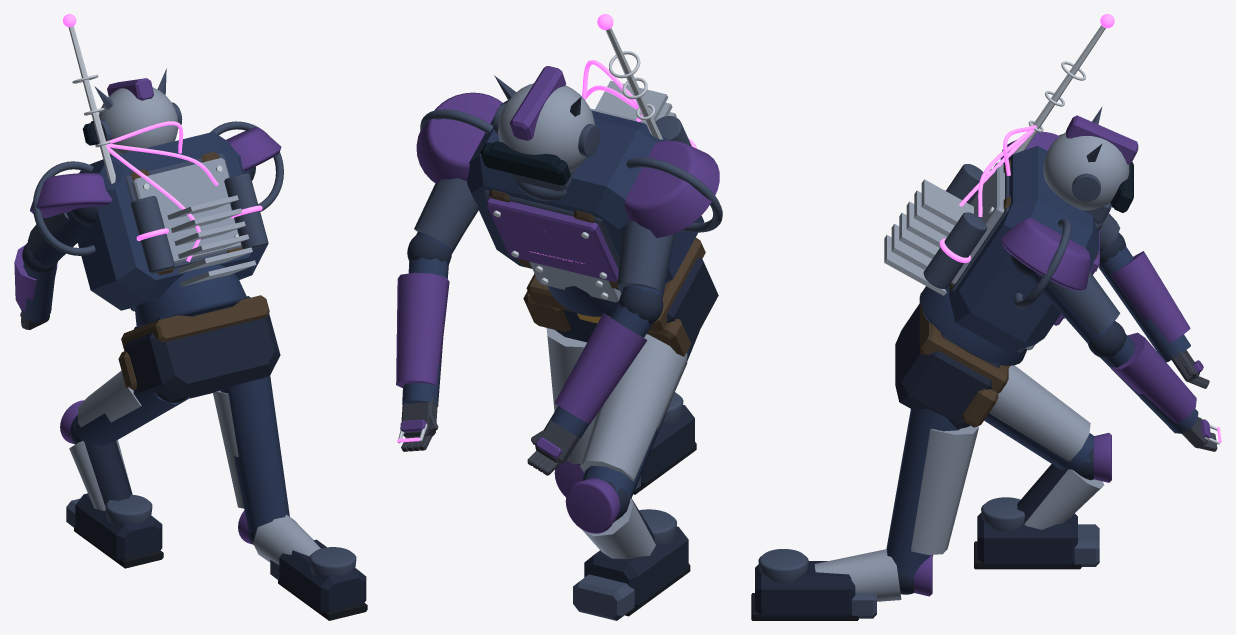
The model's file is hero_tempest_revive.glb.
The picture shows the model from 3 angles, left to right: view 1: azimuth 30°, elevation 25°; view 2: azimuth 150°, elevation 25°; view 3: azimuth 270°, elevation 25°; orthographic projection. The views are drawn at different scales.
Visible parts, largest first — view 1: hero_tempest_revive_chest, hero_tempest_revive_pelvis, hero_tempest_revive_thigh_r, hero_tempest_revive_back_plate_face, hero_tempest_revive_abdomen, hero_tempest_revive_helmet, hero_tempest_revive_spine_fins, hero_tempest_revive_boot_r, hero_tempest_revive_boot_l, hero_tempest_revive_belt, hero_tempest_revive_pauldron-1, hero_tempest_revive_thigh_l (+23 smaller); view 2: hero_tempest_revive_chest, hero_tempest_revive_thigh_plate_l, hero_tempest_revive_chest_plate_face, hero_tempest_revive_pauldron-1, hero_tempest_revive_bracer_r, hero_tempest_revive_bracer_l, hero_tempest_revive_pauldron1, hero_tempest_revive_helmet, hero_tempest_revive_boot_l, hero_tempest_revive_pelvis, hero_tempest_revive_bicep_plate_l, hero_tempest_revive_bicep_plate_r (+32 smaller); view 3: hero_tempest_revive_chest, hero_tempest_revive_pelvis, hero_tempest_revive_thigh_plate_r, hero_tempest_revive_thigh_plate_l, hero_tempest_revive_spine_fins, hero_tempest_revive_thigh_r, hero_tempest_revive_helmet, hero_tempest_revive_boot_r, hero_tempest_revive_boot_l, hero_tempest_revive_pauldron1, hero_tempest_revive_bracer_r, hero_tempest_revive_bracer_l (+25 smaller).
Part boxes in pixels (x1,y1,x2,y2): hero_tempest_revive_chest: (77,132,268,310); hero_tempest_revive_pelvis: (124,296,280,401); hero_tempest_revive_thigh_r: (221,375,289,535); hero_tempest_revive_back_plate_face: (131,158,241,263); hero_tempest_revive_abdomen: (134,264,246,327); hero_tempest_revive_helmet: (99,87,177,155); hero_tempest_revive_spine_fins: (167,195,256,286); hero_tempest_revive_boot_r: (279,539,366,613); hero_tempest_revive_boot_l: (75,493,162,561); hero_tempest_revive_belt: (121,295,269,351); hero_tempest_revive_pauldron-1: (30,173,112,217); hero_tempest_revive_thigh_l: (73,389,189,446); hero_tempest_revive_chest: (467,100,704,290); hero_tempest_revive_thigh_plate_l: (580,334,687,481); hero_tempest_revive_chest_plate_face: (485,197,618,281); hero_tempest_revive_pauldron-1: (624,140,719,237); hero_tempest_revive_bracer_r: (396,272,449,387); hero_tempest_revive_bracer_l: (554,313,647,424); hero_tempest_revive_pauldron1: (416,92,502,183); hero_tempest_revive_helmet: (498,83,594,171); hero_tempest_revive_boot_l: (584,526,688,607); hero_tempest_revive_pelvis: (555,257,718,350); hero_tempest_revive_bicep_plate_l: (617,221,674,292); hero_tempest_revive_bicep_plate_r: (414,178,478,250); hero_tempest_revive_chest: (949,146,1098,352); hero_tempest_revive_pelvis: (895,304,999,428); hero_tempest_revive_thigh_plate_r: (911,425,978,554); hero_tempest_revive_thigh_plate_l: (989,365,1090,461); hero_tempest_revive_spine_fins: (884,179,973,295); hero_tempest_revive_thigh_r: (886,409,959,579); hero_tempest_revive_helmet: (1043,132,1129,210); hero_tempest_revive_boot_r: (755,561,855,616); hero_tempest_revive_boot_l: (977,513,1077,565); hero_tempest_revive_pauldron1: (1000,218,1090,290); hero_tempest_revive_bracer_r: (1110,332,1196,423); hero_tempest_revive_bracer_l: (1110,251,1190,343).
Size of the model in its own units: 0.8436 by 1.66 by 1.31.
